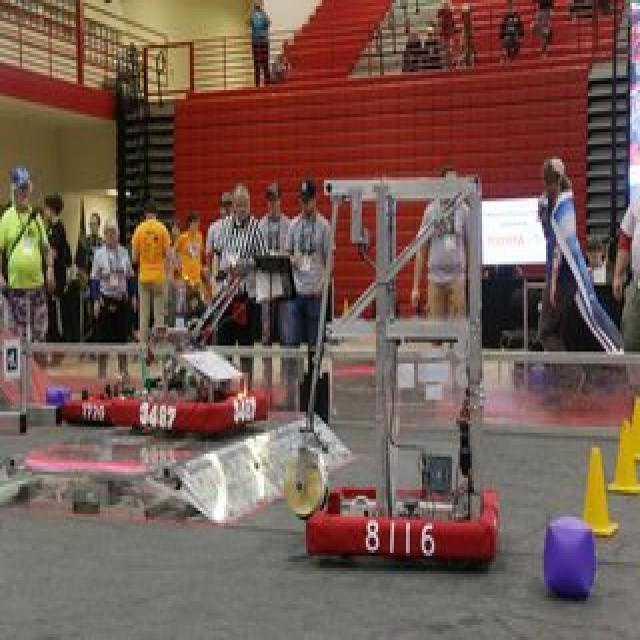robot: (281, 177, 505, 561), (139, 247, 263, 436), (51, 359, 157, 435)
